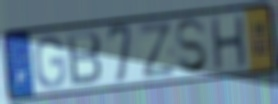7: (106, 23, 134, 87)
B: (65, 29, 104, 88)
G: (32, 34, 68, 91)
H: (209, 13, 249, 73)
S: (173, 17, 210, 76)
Z: (137, 20, 177, 82)
